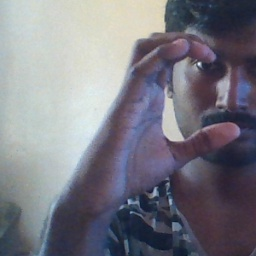C: (126, 28, 244, 168)
